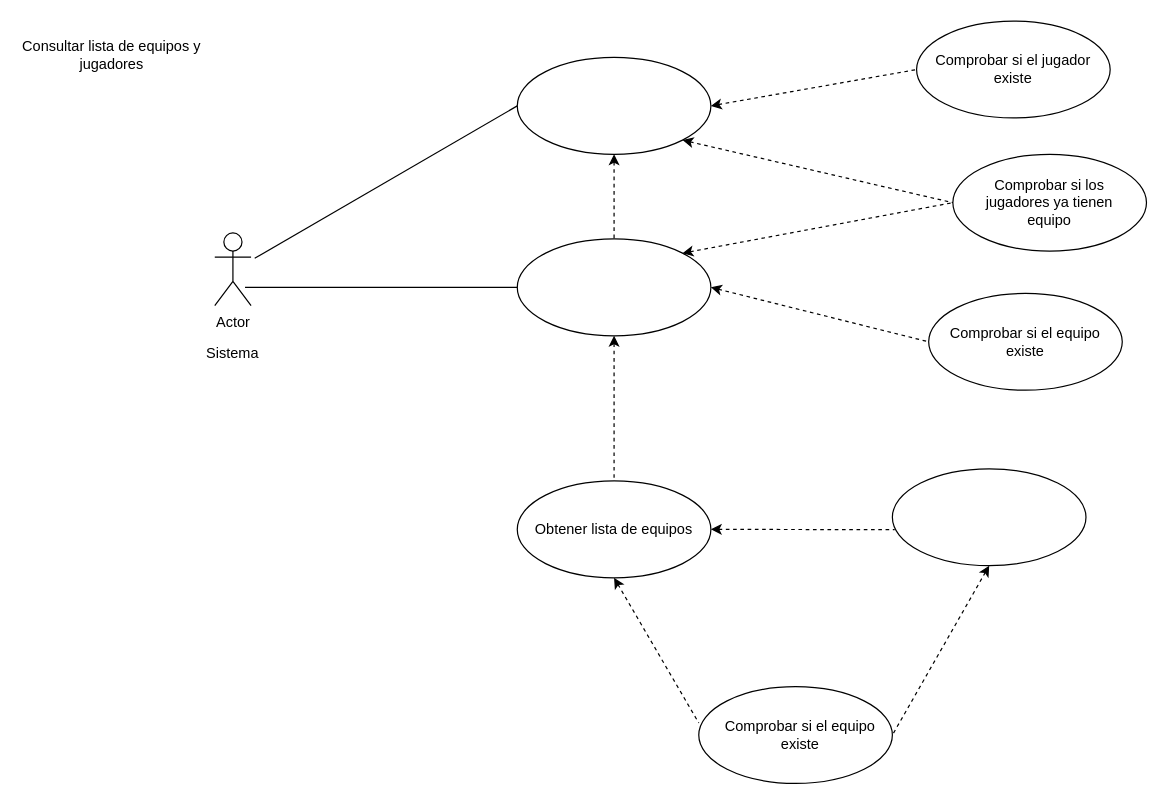
Image size: 1168x805. Some labels were removed from this diagram. Each missing label, with the centre of its shape:
Crear Jugadores: [613,105]
Creo equipo: [613,287]
Obtener lista de jugadores: [988,517]
